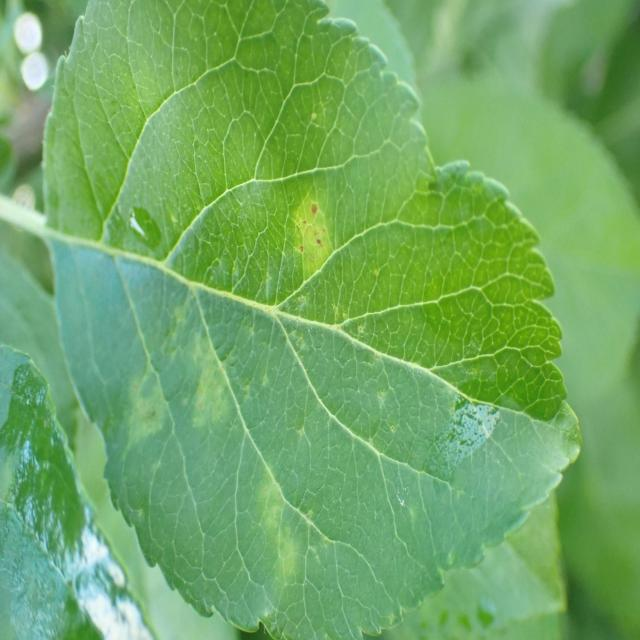scab: (52, 69, 567, 640)
